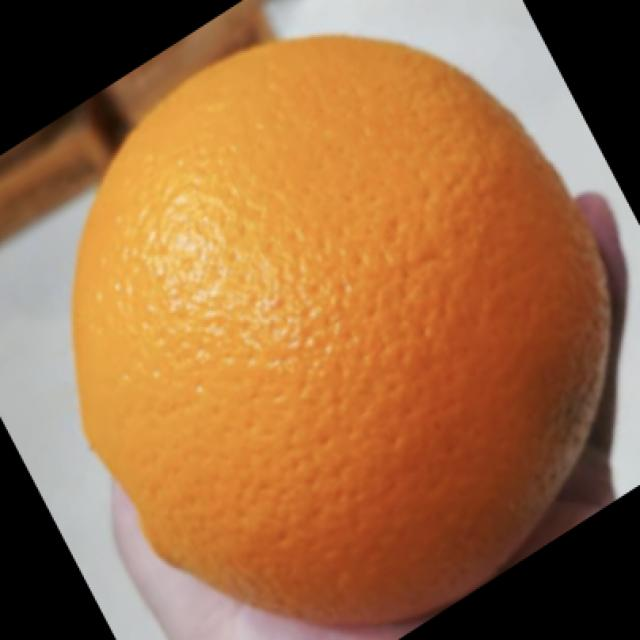fresh: (43, 16, 620, 637)
